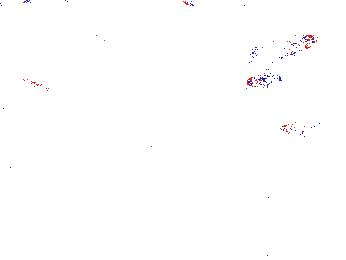red belly glassfish: (278, 120, 318, 139), (245, 72, 283, 90)
redtail glassfish: (244, 31, 320, 61)
